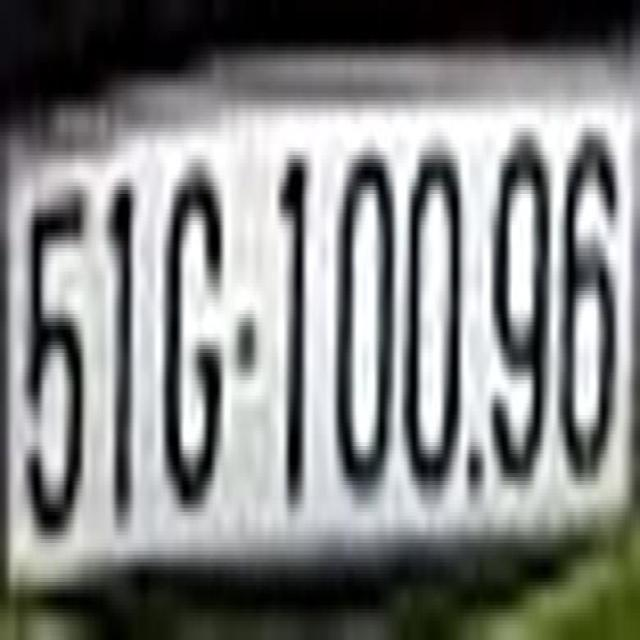0: (334, 130, 393, 498), (405, 132, 461, 492)
1: (103, 165, 137, 525), (275, 140, 308, 508)
5: (26, 175, 86, 539)
6: (560, 114, 620, 483)
9: (489, 120, 548, 489)
G: (162, 147, 224, 512)
